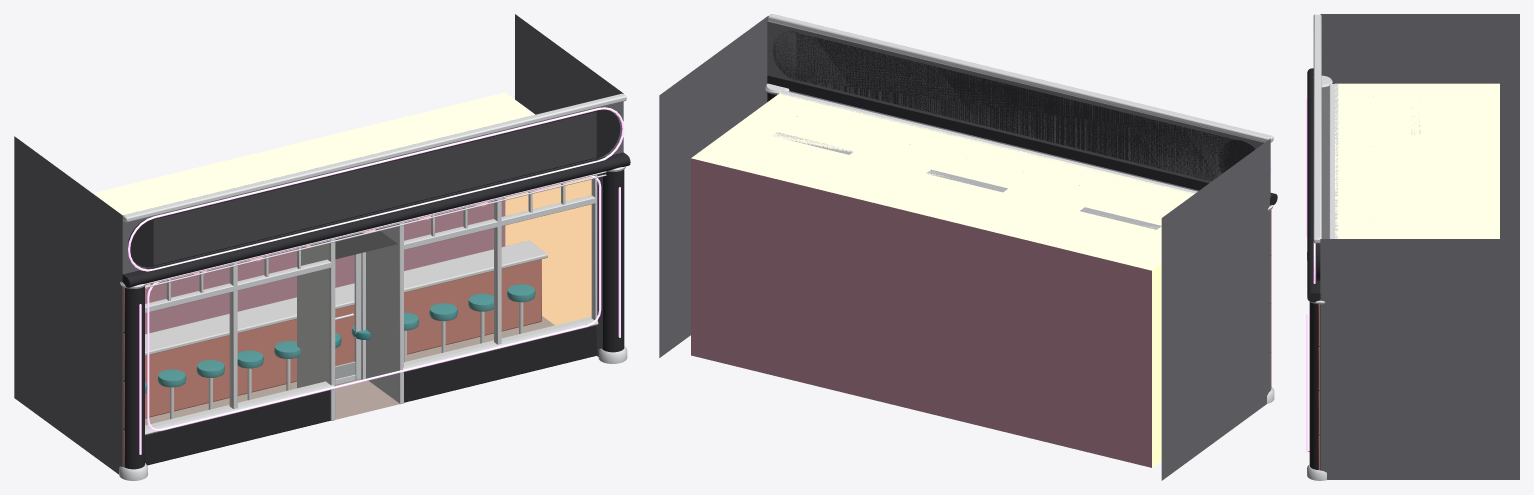
The model's file is retro_shop_lit_8a.glb.
3 views of the same model, side by side, from view 1: azimuth 30°, elevation 25°; view 2: azimuth 150°, elevation 25°; view 3: azimuth 270°, elevation 25° (orthographic). The views are drawn at different scales.
Visible parts, largest first — view 1: retro_shop_lit_8a; view 2: retro_shop_lit_8a; view 3: retro_shop_lit_8a.
Part boxes in pixels (box(x1,y1,x2,y2)): retro_shop_lit_8a: box(14, 14, 630, 480); retro_shop_lit_8a: box(659, 14, 1277, 480); retro_shop_lit_8a: box(1306, 14, 1519, 480).
Size of the model in its own units: 8.06 by 4 by 3.21.
